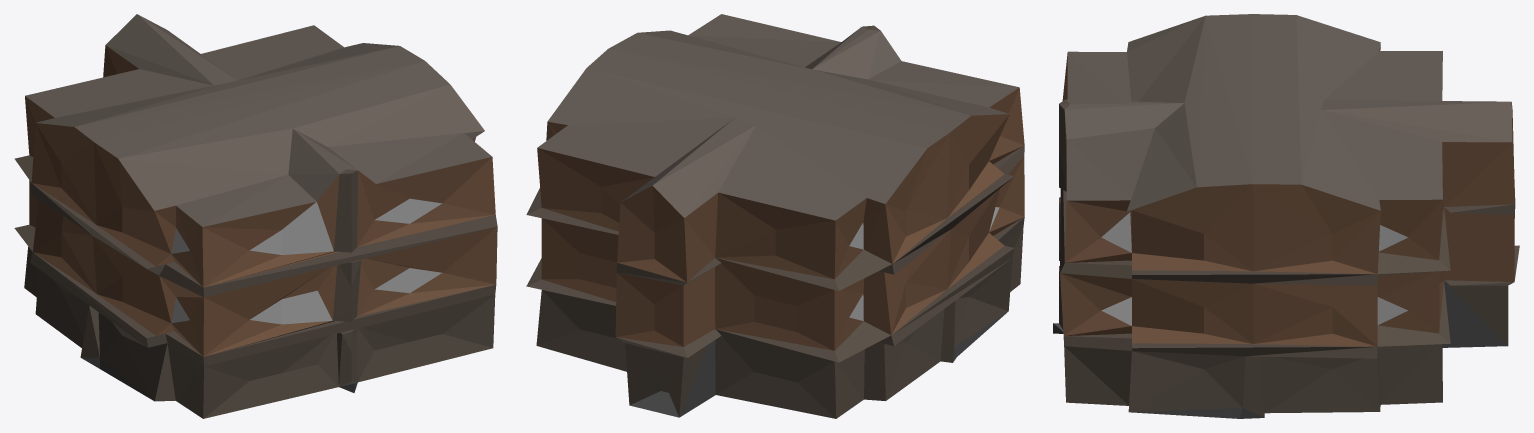
File: House1_LOD3.fbx
The picture shows the model from 3 angles, left to right: view 1: azimuth 30°, elevation 25°; view 2: azimuth 150°, elevation 25°; view 3: azimuth 270°, elevation 25°; orthographic projection. The views are drawn at different scales.
Visible parts, largest first — view 1: Cube; view 2: Cube; view 3: Cube.
Boxes of the visible parts, left/top/right/bottom form: Cube: left=14, top=14, right=497, bottom=418; Cube: left=526, top=14, right=1024, bottom=418; Cube: left=1053, top=14, right=1519, bottom=418.
Bounding box in the file's own units: 3669 × 2248 × 4050.
